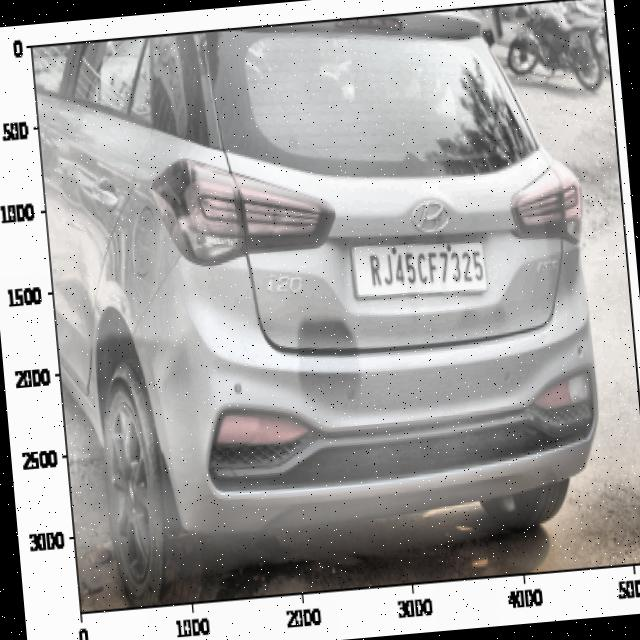license_plate: (359, 235, 488, 298)
